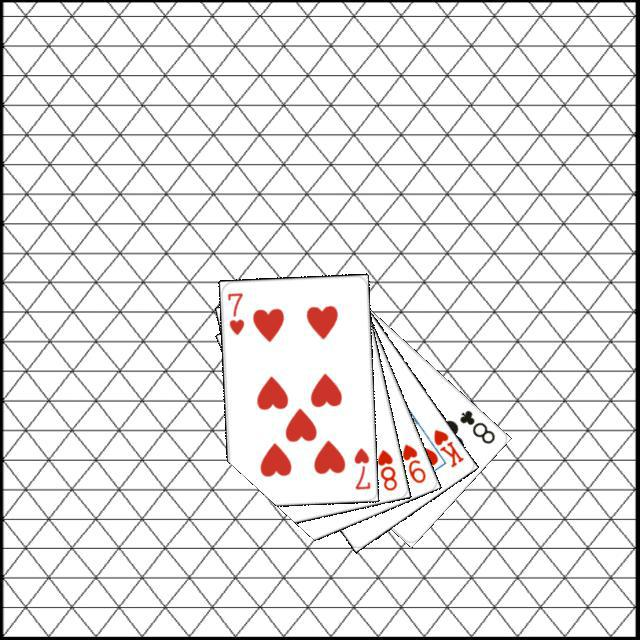7h: (349, 443, 372, 491), (223, 288, 246, 336)
8c: (455, 405, 497, 446)
8h: (372, 445, 399, 492)
9h: (397, 439, 427, 485)
Kh: (418, 424, 465, 469)
